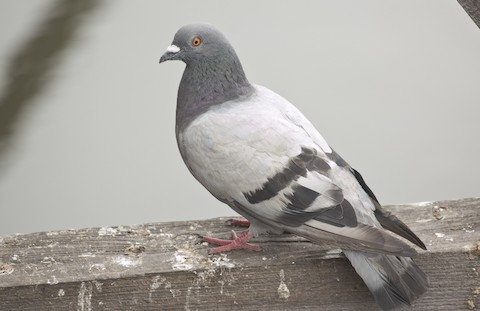pigeon: (154, 18, 432, 311)
